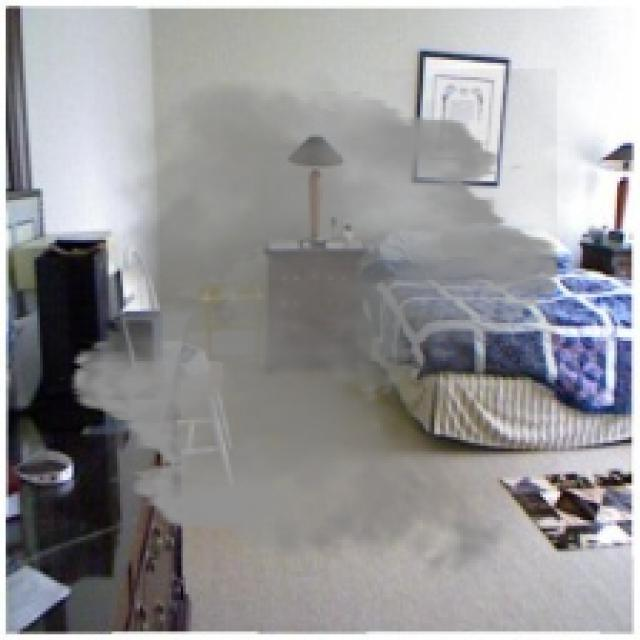Smoke: (54, 69, 577, 592)
